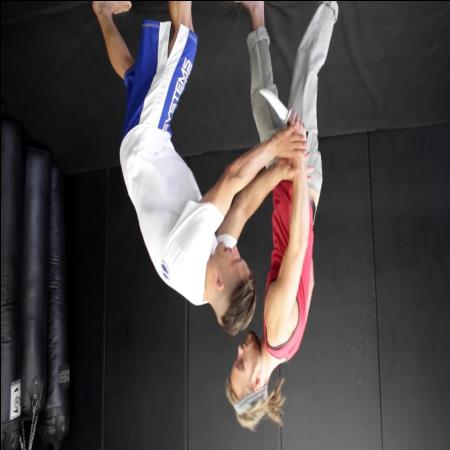long weapon: (255, 82, 310, 142)
